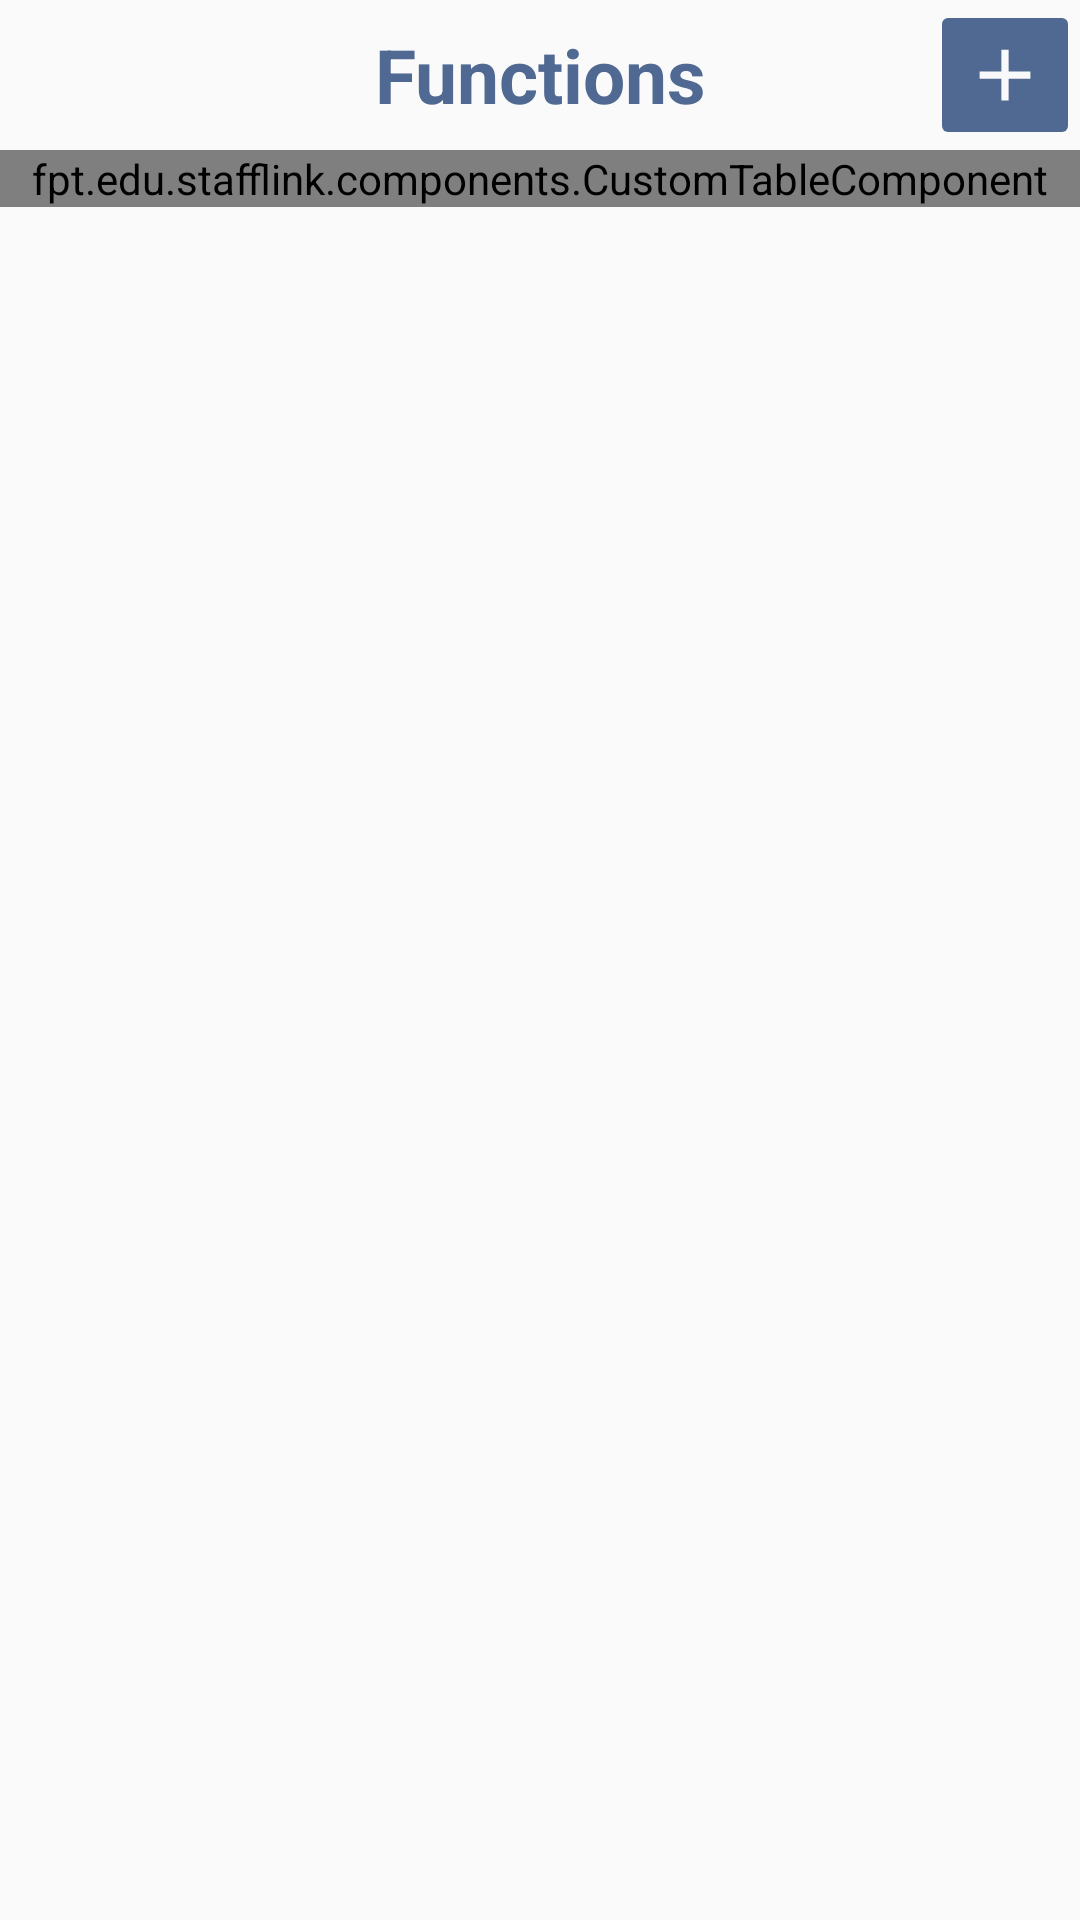

Screen size 1080x1920. Icon name, then its box in pixels as region(x1, y1, x2, y2):
add: region(942, 18, 1068, 132)
